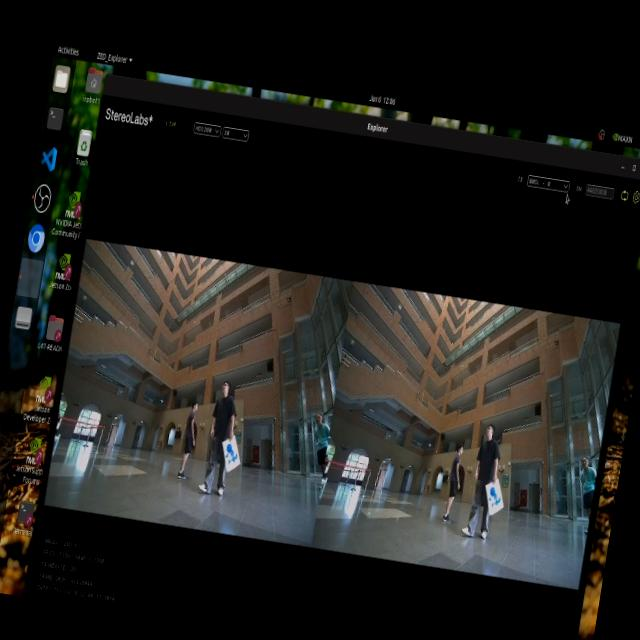blue: (482, 484, 508, 515), (222, 438, 242, 473)
